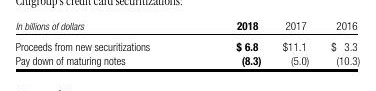table: (0, 0, 376, 91)
